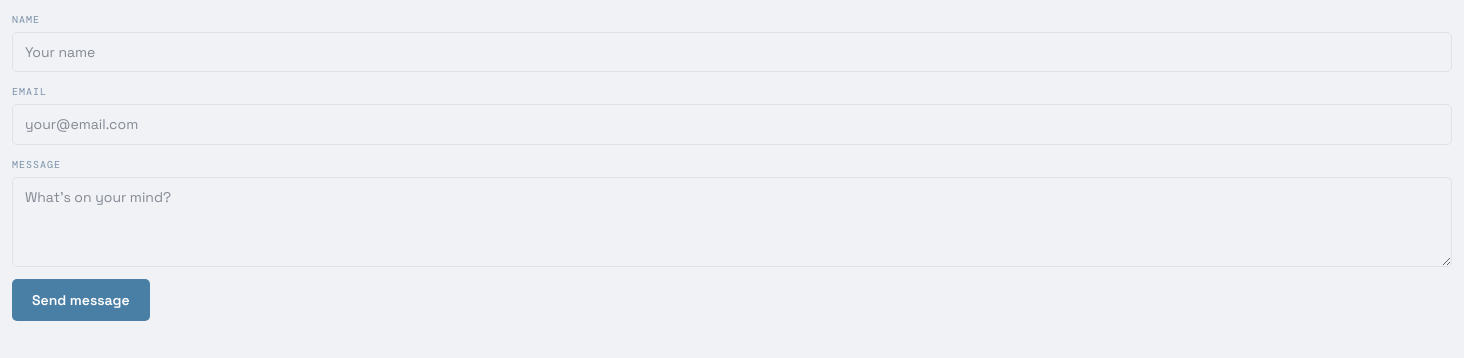
ContactForm › name validation › shows an error when blurred with an empty field
Click the field labelled "Name" at (732, 52), box [12, 32, 1452, 72]
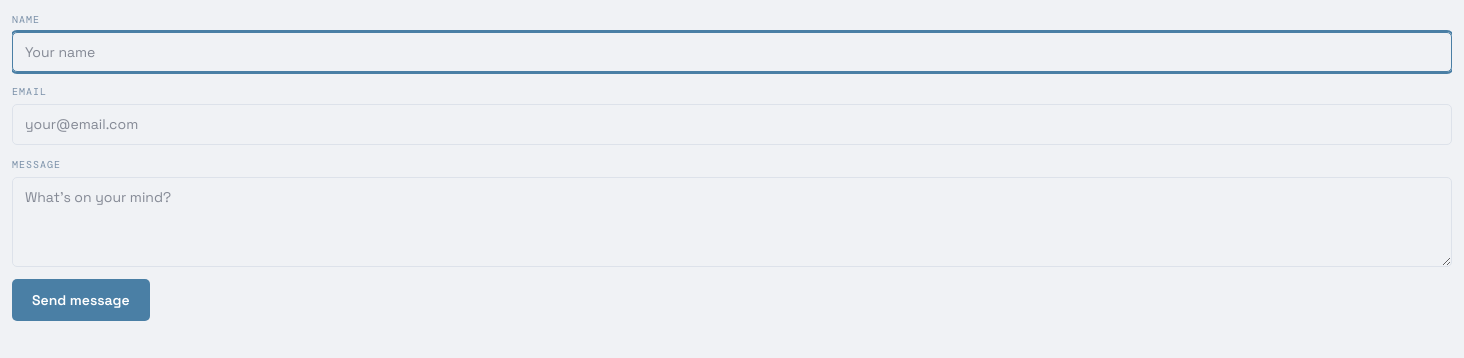
Press Tab
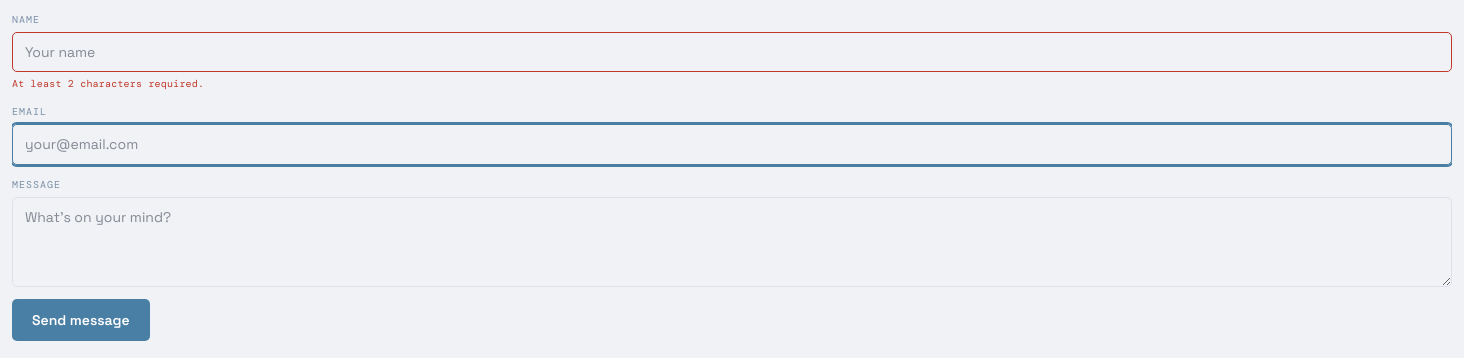
expect the text "At least 2 characters required." is shown: met, box [12, 77, 204, 90]
